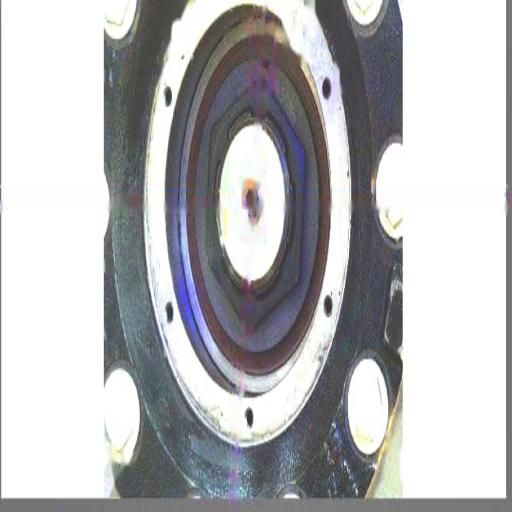center: (241, 186, 258, 219)
notch: (260, 51, 279, 87)
